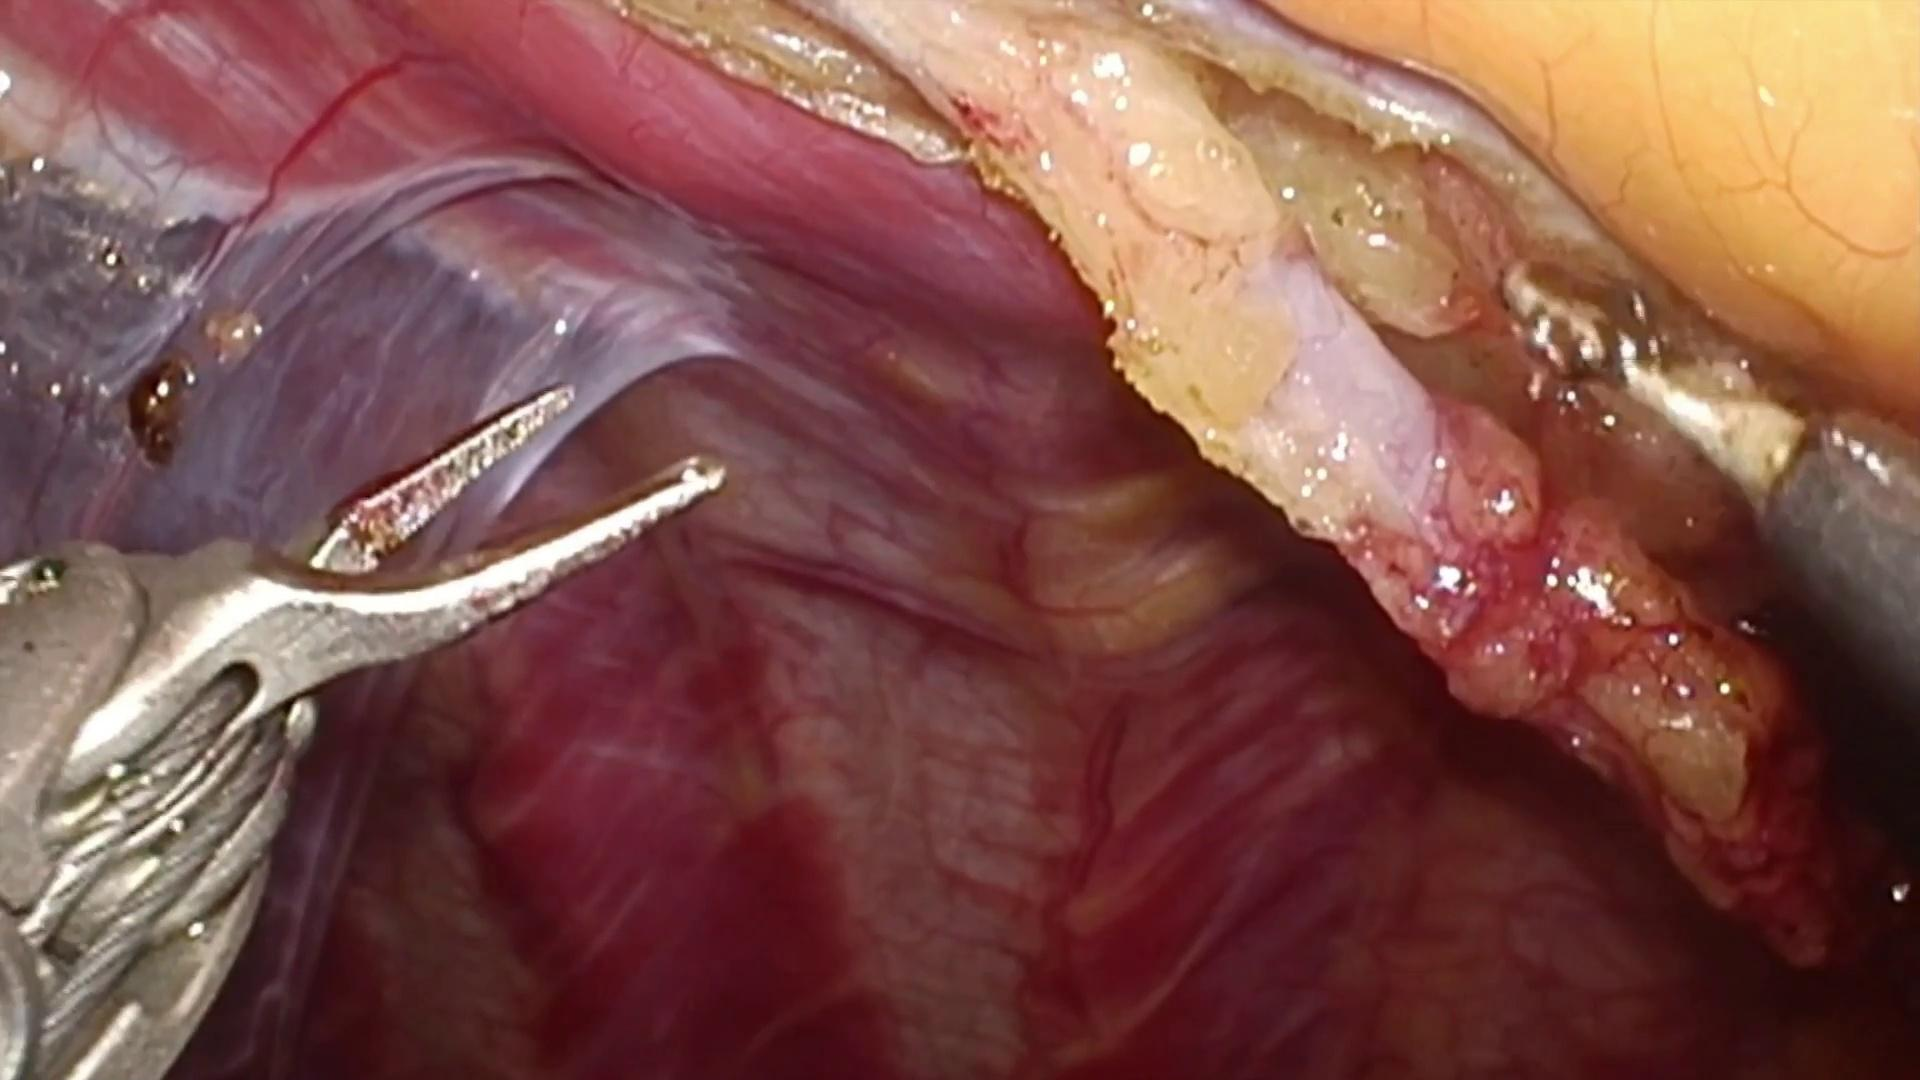Cautery_Spatula: (1502, 265, 1920, 748)
Debakey: (136, 385, 733, 740)
